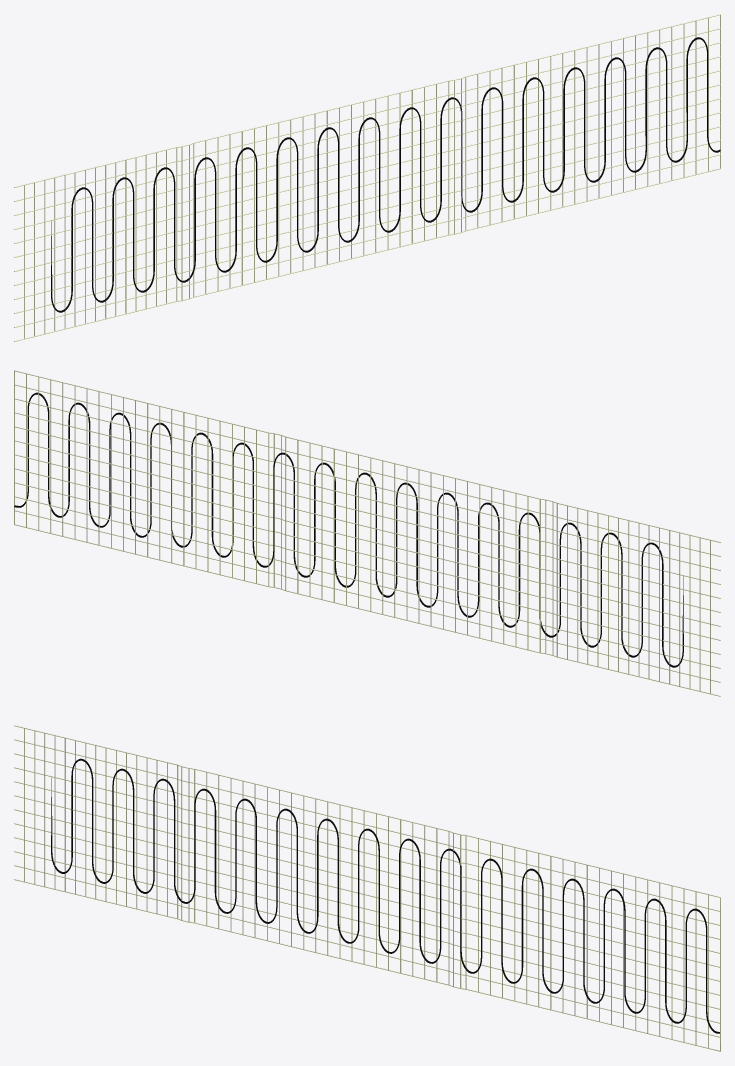
The model's file is FTT 1120_.fbx.
3 views of the same model, one above another, from view 1: azimuth 30°, elevation 25°; view 2: azimuth 150°, elevation 25°; view 3: azimuth 330°, elevation 25° (orthographic).
Parts seen in each view (by area): view 1: Shape, Rectangle13576674, Rectangle030; view 2: Shape, Rectangle13576674, Rectangle030; view 3: Shape, Rectangle13576674, Rectangle030.
Boxes of the visible parts, box(x1,y1,x2,y2) form: Shape: box(14, 14, 720, 341); Rectangle13576674: box(379, 37, 720, 232); Rectangle030: box(51, 117, 380, 312); Shape: box(14, 370, 720, 696); Rectangle13576674: box(14, 392, 356, 587); Rectangle030: box(355, 472, 683, 667); Shape: box(14, 725, 720, 1051); Rectangle13576674: box(378, 838, 719, 1033); Rectangle030: box(51, 758, 379, 943).
Size of the model in its own units: 3171 by 11.99 by 664.
